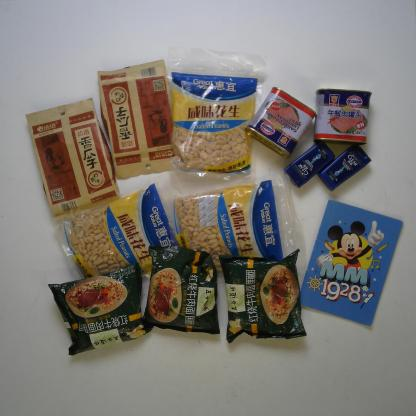Canned Food: (244, 86, 317, 158), (312, 87, 372, 146)
Dried Food: (25, 96, 121, 222), (97, 59, 178, 180)
Dried Fruit: (50, 169, 184, 281), (164, 43, 267, 187), (167, 172, 307, 267)
Instant Noodles: (47, 262, 154, 356), (218, 248, 309, 344), (142, 244, 220, 336)
Personal Hygiene: (316, 143, 372, 192), (283, 139, 336, 189)
Stationery: (298, 198, 406, 328)
